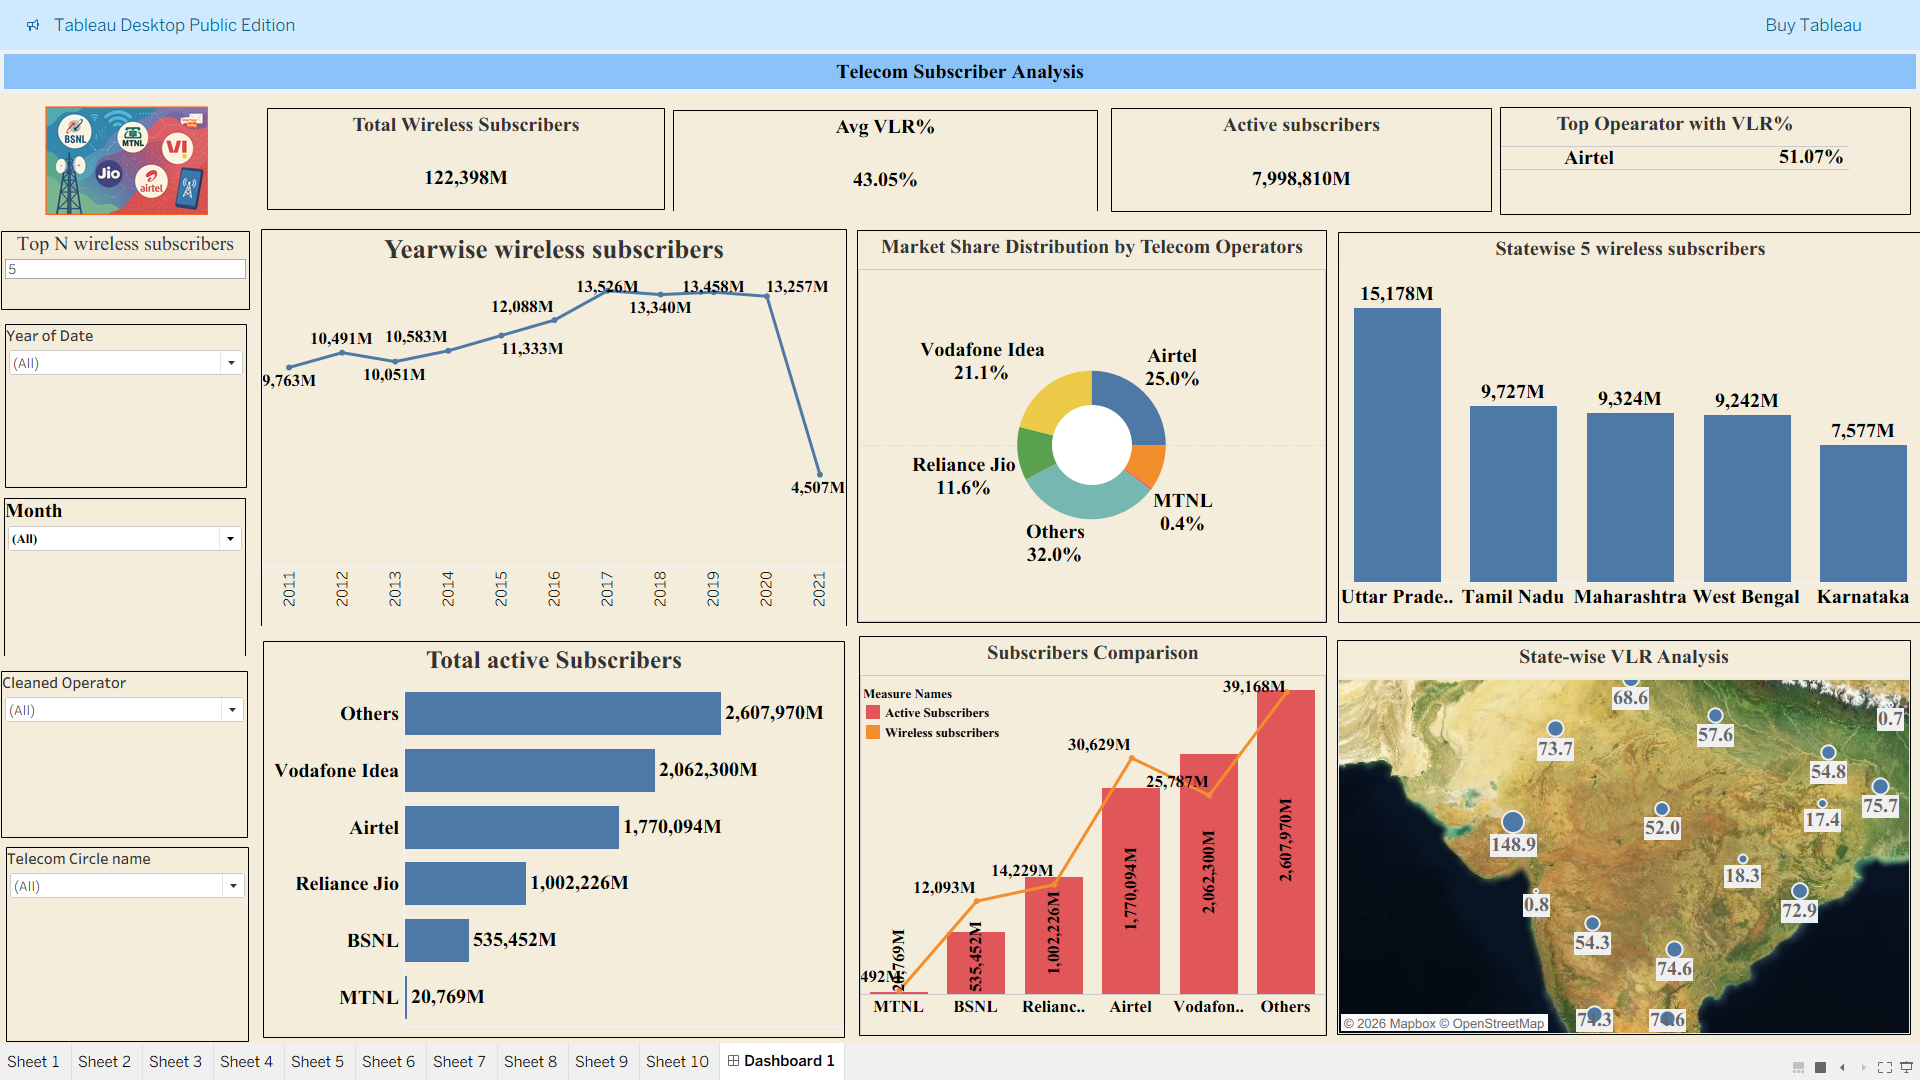

The page's visual inventory and layout, read from the dashboard file:
{"tool":"tableau","page":{"name":"Dashboard 1","canvas":[1000,1000],"units":"permille","ordinal":0},"visuals":[{"type":"title","box":[0,0,1000,53.7]},{"type":"image","box":[3.5,56.2,124.8,109.9]},{"type":"worksheet","title":"Sheet 10","mark":"Automatic","rows":["Cleaned Operator"],"box":[781.5,57.4,213.8,108.6]},{"type":"worksheet","title":"Sheet 7","mark":"Automatic","box":[138.8,58.7,207.4,102.4]},{"type":"worksheet","title":"Sheet 9","mark":"Automatic","box":[578.8,58.7,198.6,104.9]},{"type":"worksheet","title":"Sheet 8","mark":"Automatic","box":[350.3,59.9,221.4,102.4]},{"type":"worksheet","title":"Sheet 1","mark":"Automatic","rows":["Wireless subscribers"],"cols":["Date"],"box":[135.8,179.8,305.4,400.8]},{"type":"worksheet","title":"Sheet 3","mark":"Circle","rows":["Calculation_0840583800848387","Calculation_0840583800963077"],"box":[446.6,181,245,395.8]},{"type":"parameter","param":"[Parameters].[Parameter 1]","box":[0.6,182.3,129.8,79.9]},{"type":"worksheet","title":"Sheet 4","mark":"Automatic","rows":["Wireless subscribers"],"cols":["StateName"],"box":[697,183.5,304.8,393.3]},{"type":"filter","title":"Sheet 1","param":"[federated.0xyc7j80rb9wep14n284q1asdyqm].[yr:Date:ok]","box":[2.4,275.9,126.1,164.8]},{"type":"filter","title":"Sheet 3","param":"[federated.0xyc7j80rb9wep14n284q1asdyqm].[none:Month:nk]","box":[2.3,450.7,126,159.8]},{"type":"worksheet","title":"Sheet 5","mark":"Bar","rows":["Active Subscribers","Wireless subscribers"],"cols":["Cleaned Operator"],"box":[447.2,590.5,243.8,403.2]},{"type":"worksheet","title":"Sheet 6","mark":"Circle","box":[696.4,594.3,298.7,398.2]},{"type":"worksheet","title":"Sheet 2","mark":"Automatic","rows":["Cleaned Operator"],"cols":["Active Subscribers"],"box":[137,595.5,303,399.5]},{"type":"filter","title":"Sheet 1","param":"[federated.0xyc7j80rb9wep14n284q1asdyqm].[none:Cleaned Operator:nk]","box":[0.6,625.5,128.9,168.5]},{"type":"legend","title":"Sheet 5","param":"[federated.0xyc7j80rb9wep14n284q1asdyqm].[:Measure Names]","box":[451.4,692.9,91.1,68.7]},{"type":"filter","title":"Sheet 6","param":"[federated.0xyc7j80rb9wep14n284q1asdyqm].[none:Telecom Circle name:nk]","box":[2.9,802.8,126.5,196]}]}

Visuals, with their boxes on the dashboard's canvas, which has no fixed pixel size, in thousandths of its width and height (x1, y1, x2, y2). These are canvas units, not pixel positions in the 1920x1080 screenshot, which may show the page scaled, cropped or inside an application window:
title: [0,0,1000,54]
image: [4,56,128,166]
"Sheet 10" worksheet: [782,57,995,166]
"Sheet 7" worksheet: [139,59,346,161]
"Sheet 9" worksheet: [579,59,777,164]
"Sheet 8" worksheet: [350,60,572,162]
"Sheet 1" worksheet: [136,180,441,581]
"Sheet 3" worksheet (Circle marks): [447,181,692,577]
parameter: [1,182,130,262]
"Sheet 4" worksheet: [697,184,1002,577]
"Sheet 1" filter: [2,276,128,441]
"Sheet 3" filter: [2,451,128,610]
"Sheet 5" worksheet (Bar marks): [447,590,691,994]
"Sheet 6" worksheet (Circle marks): [696,594,995,992]
"Sheet 2" worksheet: [137,596,440,995]
"Sheet 1" filter: [1,626,130,794]
"Sheet 5" legend: [451,693,542,762]
"Sheet 6" filter: [3,803,129,999]
